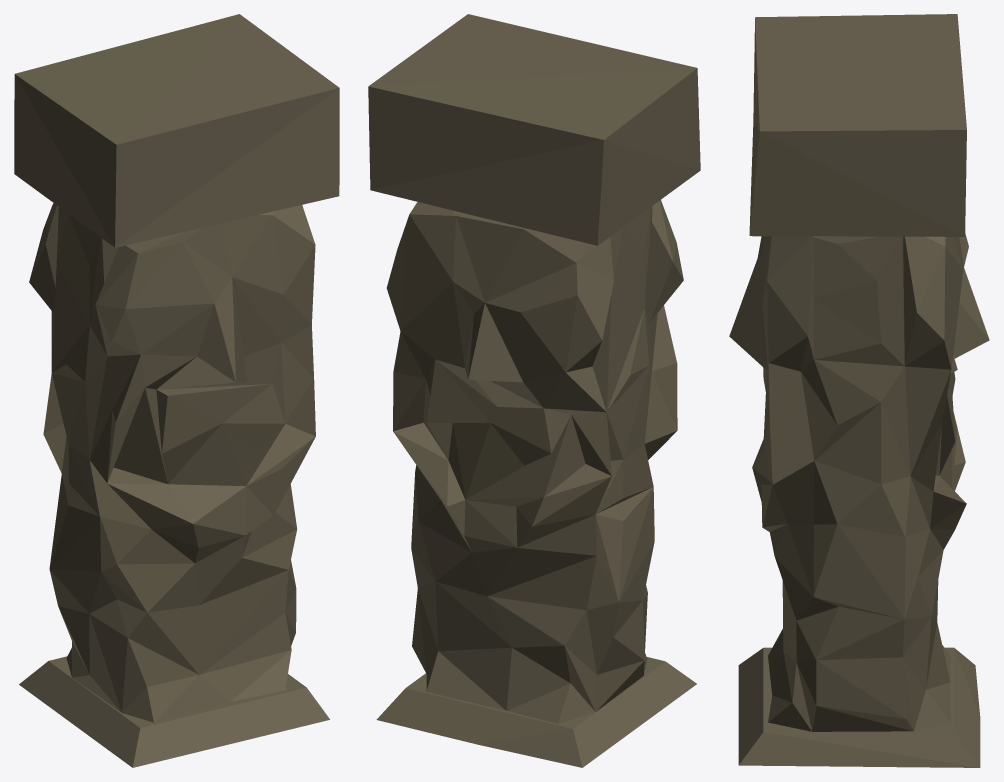
Rendered from tribal-pillar.lod2.glb.
3 renders of one model, left to right at view 1: azimuth 30°, elevation 25°; view 2: azimuth 150°, elevation 25°; view 3: azimuth 270°, elevation 25°, orthographic. The views are drawn at different scales.
Visible parts, largest first — view 1: Totemp_low_Totem_0; view 2: Totemp_low_Totem_0; view 3: Totemp_low_Totem_0.
Boxes of the visible parts, box(x1,y1,x2,y2) form: Totemp_low_Totem_0: box(14, 14, 339, 767); Totemp_low_Totem_0: box(368, 14, 700, 767); Totemp_low_Totem_0: box(729, 14, 989, 767).
Bounding box in the file's own units: 2.3 × 5.94 × 2.17.
